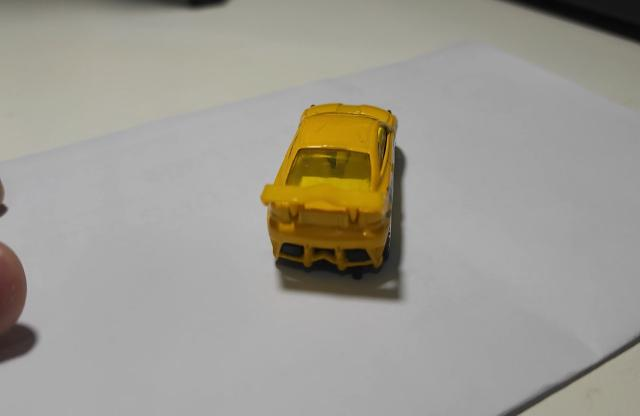07_RHLTURBO: (259, 103, 399, 283)
